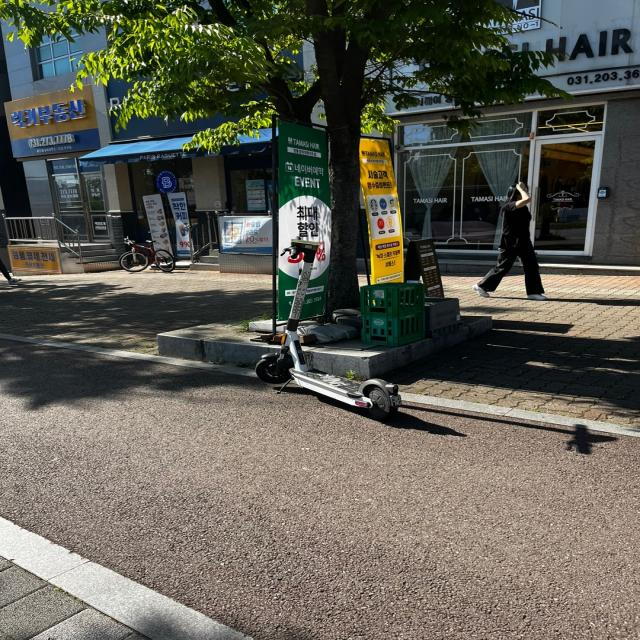bic: (2, 342, 638, 640)
curb: (0, 519, 253, 640), (2, 324, 280, 377), (305, 316, 492, 379), (400, 392, 640, 437)
kick-board: (255, 240, 402, 419)
sidewalk: (385, 275, 640, 426), (0, 270, 270, 353), (0, 558, 148, 640)
